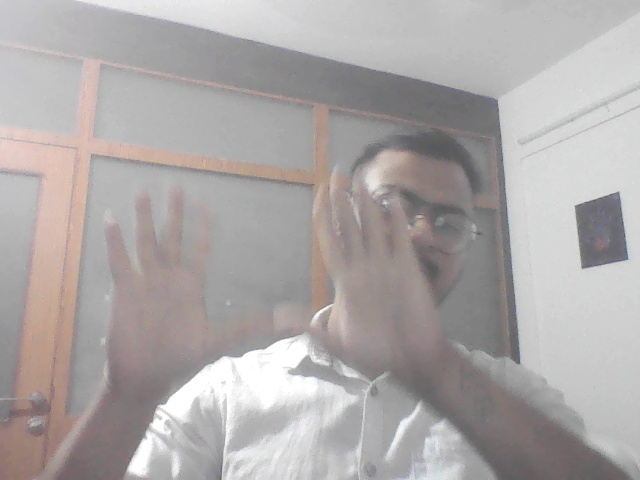Cheers: (90, 155, 455, 405)
